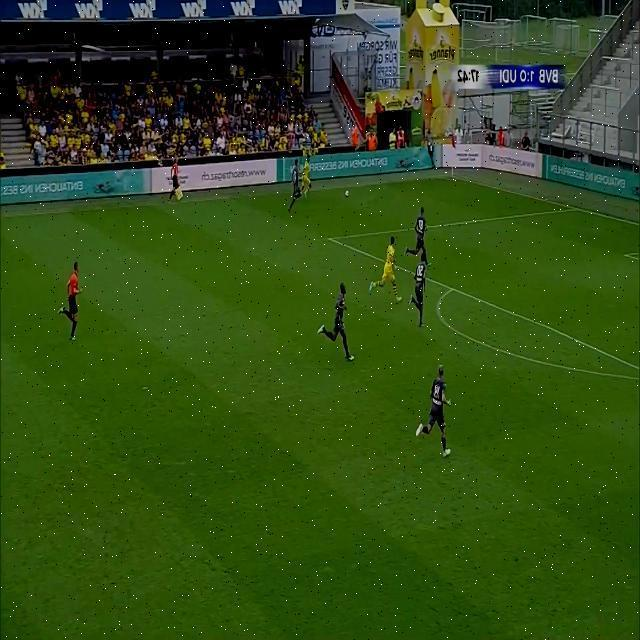ball: (341, 185, 353, 199)
player: (414, 368, 458, 463), (315, 281, 354, 362), (369, 237, 405, 309), (409, 251, 437, 328), (406, 210, 428, 271), (288, 162, 302, 212), (301, 159, 317, 201)
referee: (58, 259, 83, 349), (168, 151, 182, 203)
